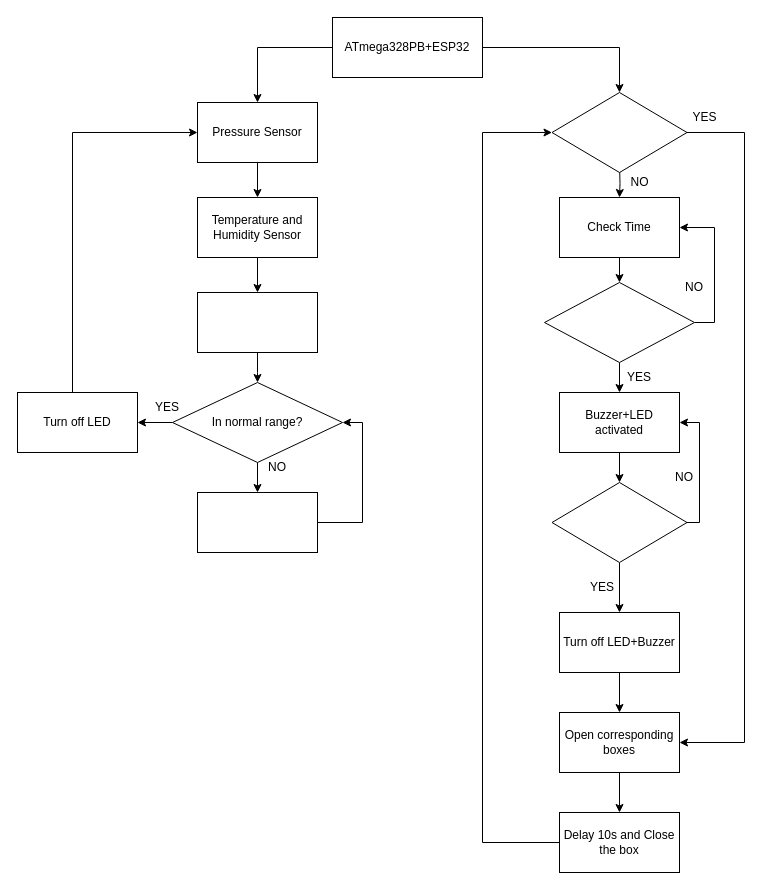
Image size: 770x890. Some labels were removed from this diagram. The box of each missing label's shape, as (x1, y1, x2, y2) in pixels:
Time to take pills?: (544, 282, 694, 362)
Turn on LED: (196, 492, 318, 552)
Update LCD Information: (196, 292, 318, 352)
Valid Fingerprint?: (551, 482, 687, 562)
Valid wireless open command?: (551, 92, 687, 172)
